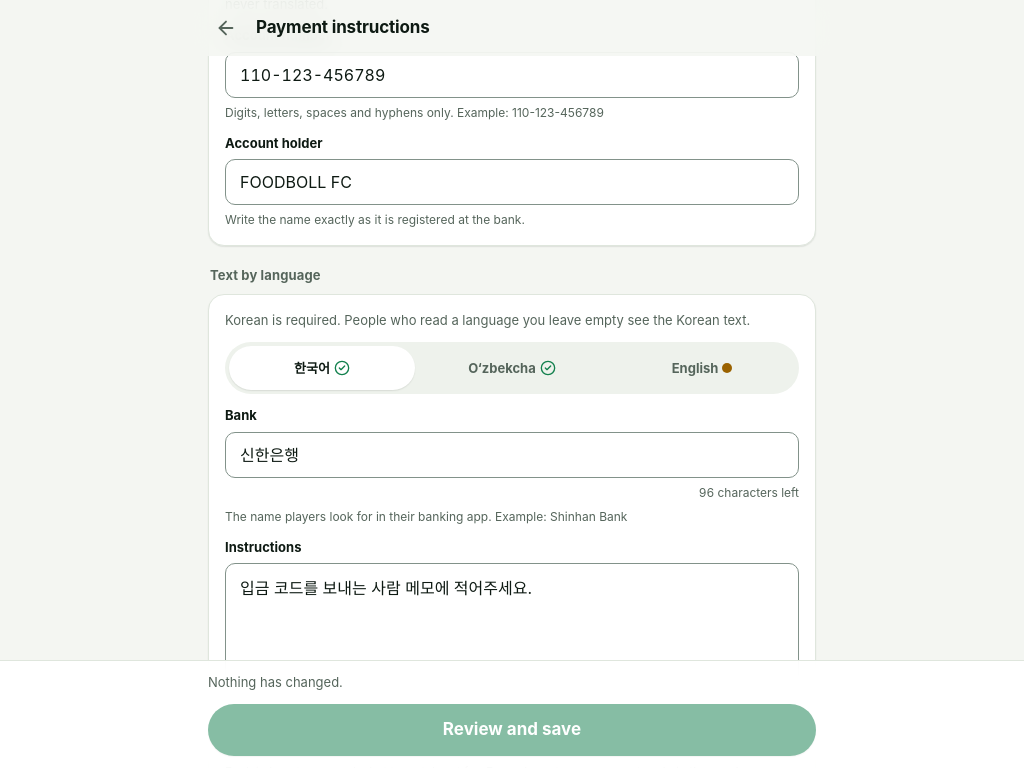
payment instructions: what is shown › prefills the form from the active instructions and marks the empty language tab
(page scrolled)
Expected: the field labelled "Account number" holds "110-123-456789", [225, 52, 799, 98]
Expected: the field labelled "Account holder" holds "FOODBOLL FC", [225, 159, 799, 205]
Click the tab named "O‘zbekcha Written" at (512, 368), box [419, 346, 605, 390]
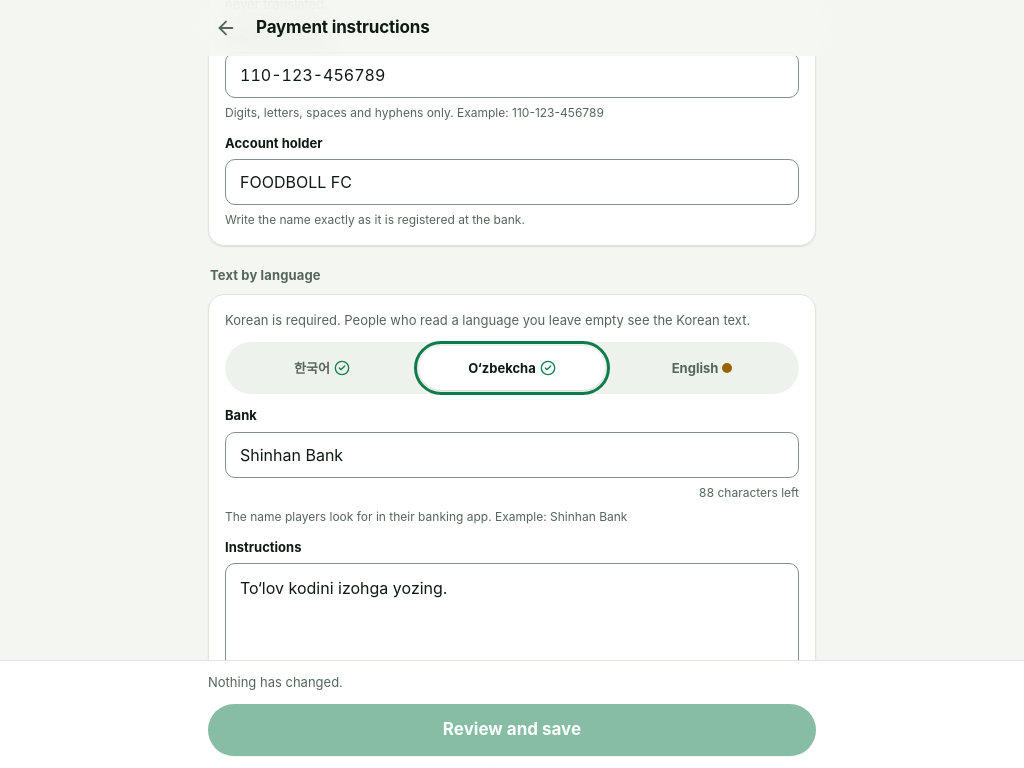
Result: the field labelled "Bank" holds "Shinhan Bank" at [225, 432, 799, 478]
Result: the text box labelled "Instructions" holds "To‘lov kodini izohga yozing." at [225, 563, 799, 733]
